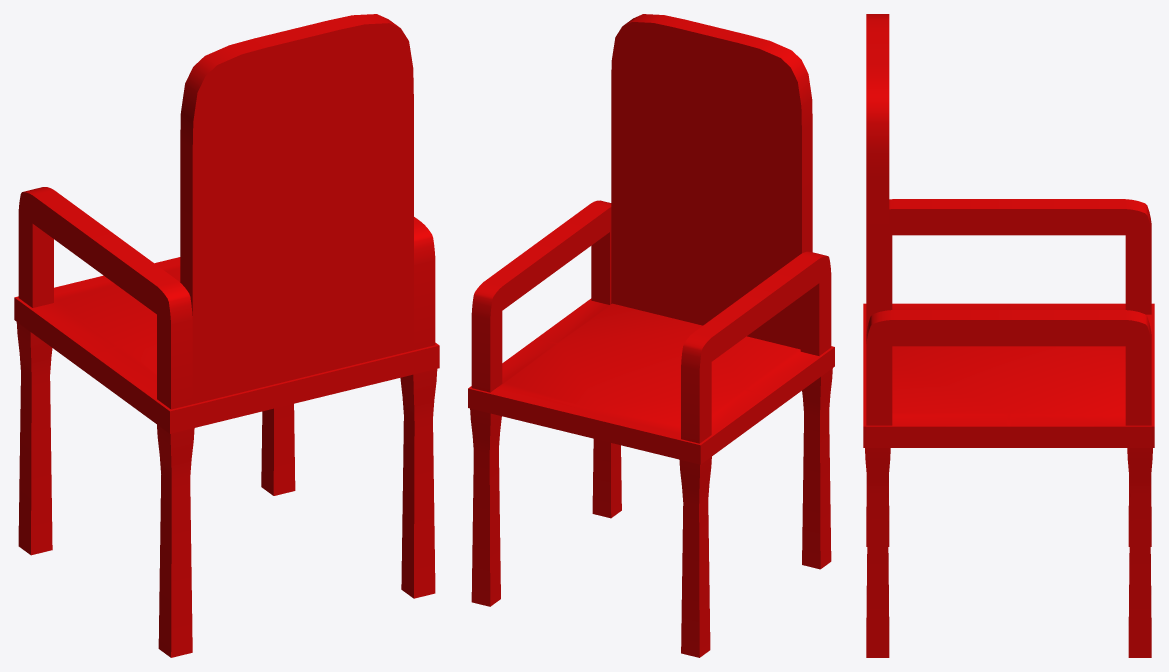
Rendered from chair.fbx.
3 renders of one model, left to right at view 1: azimuth 30°, elevation 25°; view 2: azimuth 150°, elevation 25°; view 3: azimuth 270°, elevation 25°, orthographic. The views are drawn at different scales.
Parts seen in each view (by area): view 1: chair back_low.001, chair_low.001; view 2: chair_low.001, chair back_low.001; view 3: chair_low.001, chair back_low.001.
Part boxes in pixels (box(x1,y1,x2,y2)): chair back_low.001: box(180, 14, 413, 403); chair_low.001: box(14, 187, 439, 657); chair_low.001: box(468, 200, 834, 657); chair back_low.001: box(611, 14, 812, 349); chair_low.001: box(863, 199, 1154, 657); chair back_low.001: box(866, 14, 889, 333).
Size of the model in its own units: 50 by 104 by 50.
